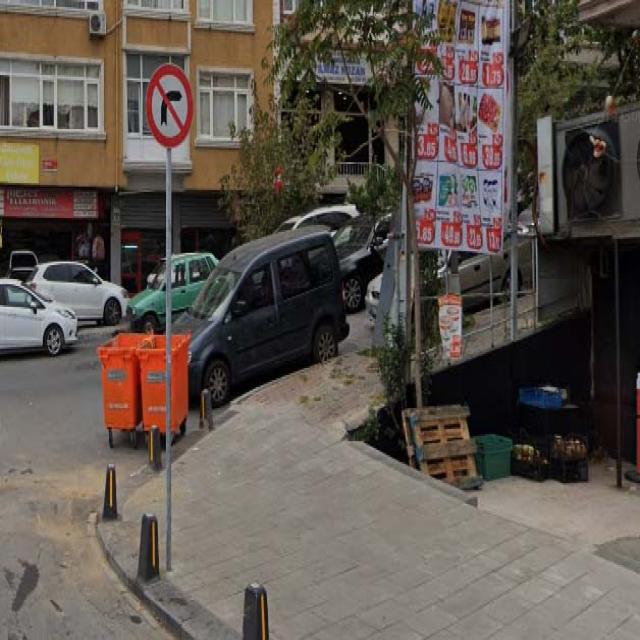sagadonulmez: (146, 64, 192, 144)
